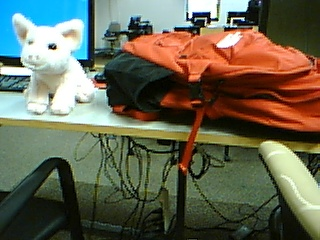piggy: (11, 12, 97, 117)
